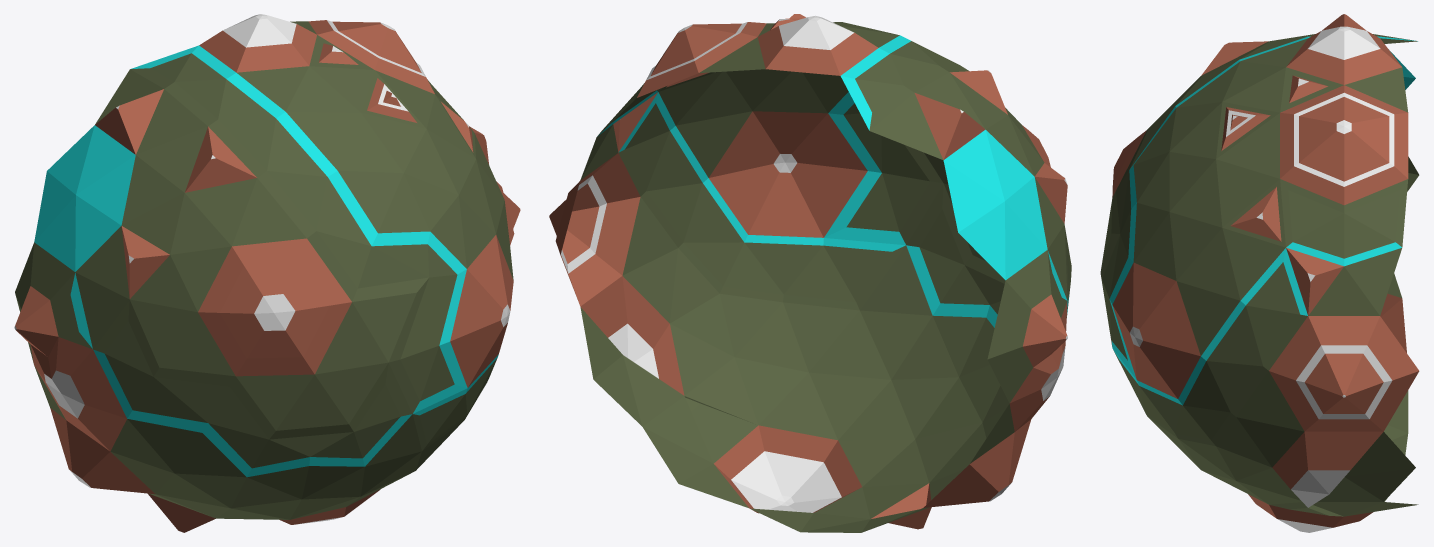
Rendered from Verde.fbx.
3 renders of one model, left to right at view 1: azimuth 30°, elevation 25°; view 2: azimuth 150°, elevation 25°; view 3: azimuth 270°, elevation 25°, orthographic. The views are drawn at different scales.
Visible parts, largest first — view 1: Icosphere; view 2: Icosphere; view 3: Icosphere.
Part boxes in pixels (box(x1,y1,x2,y2)): Icosphere: box(14, 14, 520, 532); Icosphere: box(549, 14, 1071, 532); Icosphere: box(1100, 14, 1419, 532).
Size of the model in its own units: 230 by 218 by 131.
